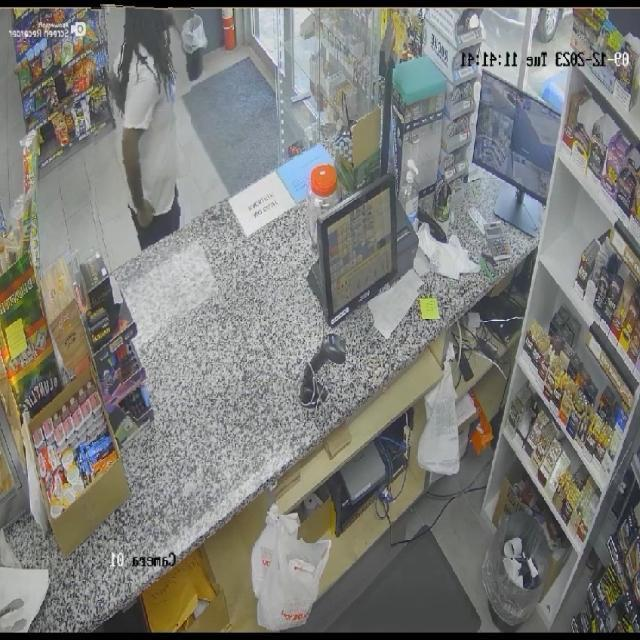Normal: (91, 5, 191, 255)
